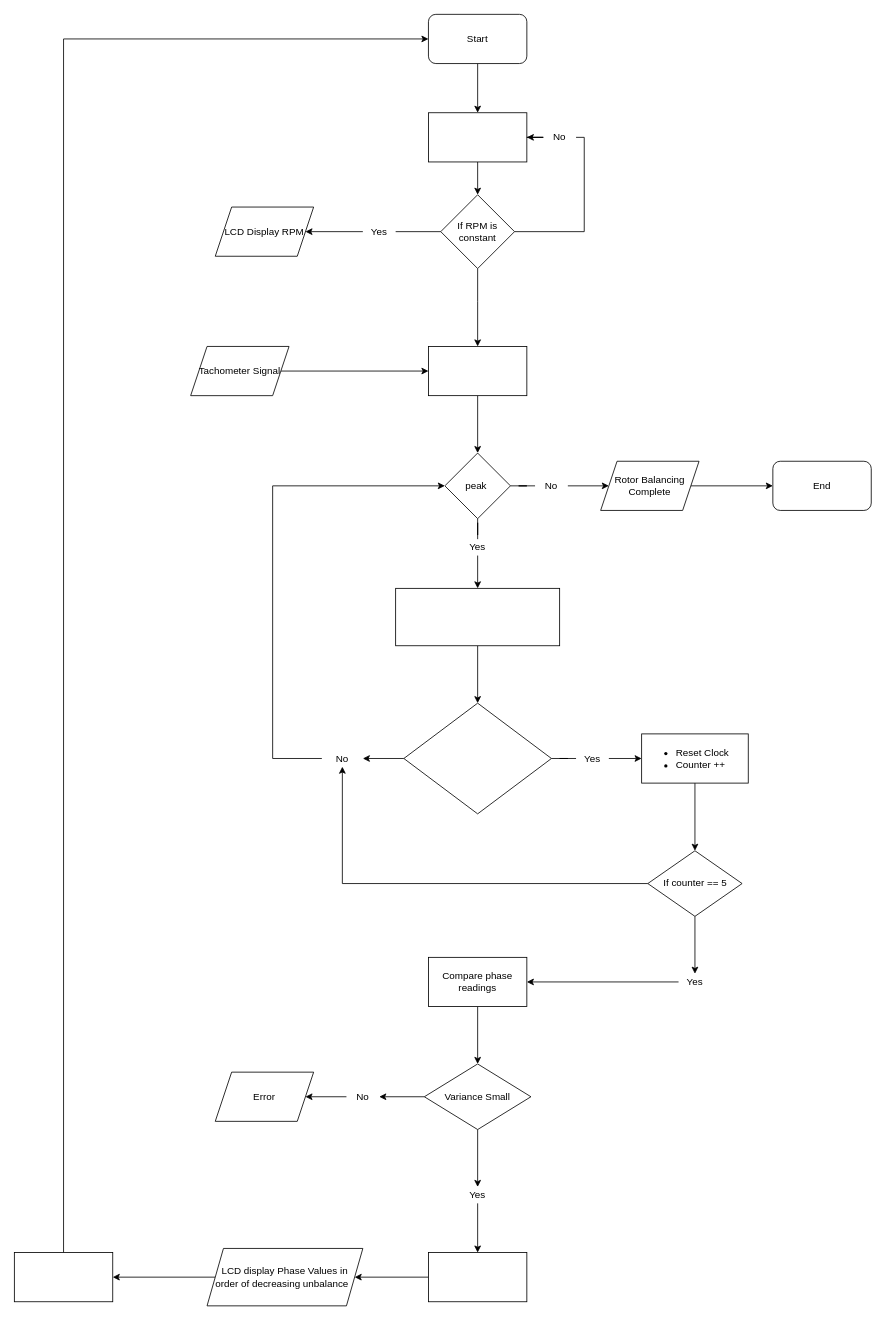
Some shapes in this 886 by 1320 pixel diagram are drawn without their labels. The shapes that lost their labels are listed below. From the top down, each one's centre as x and y in pixels, then its label:
At point 477,137: "Rotation of balance piece starts Program Waits".
At point 477,371: "Clock start when tachometer indicates zero phase".
At point 477,617: "Record time Calculate phase using RPM store phase value".
At point 477,758: "phase == 0".
At point 63,1277: "Trim Mass".
At point 477,1277: "Take Average of different phase values".
